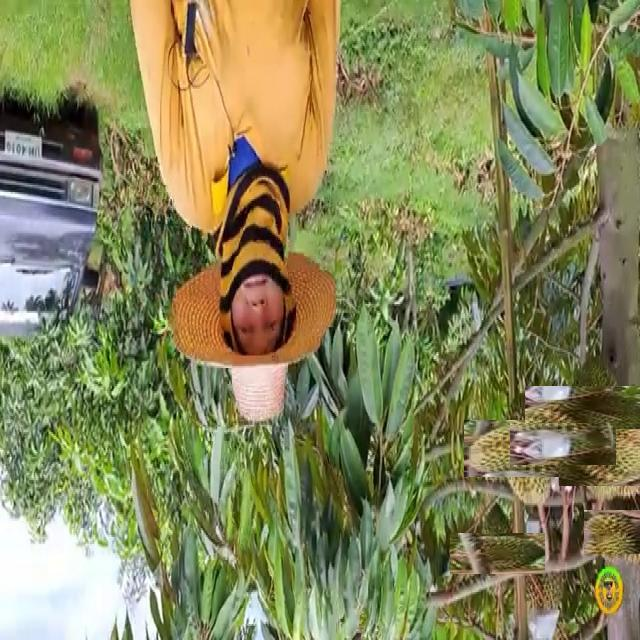durian: (543, 367, 640, 465), (481, 402, 572, 494), (526, 406, 600, 481), (570, 419, 640, 498), (463, 519, 532, 587), (589, 505, 640, 560)
